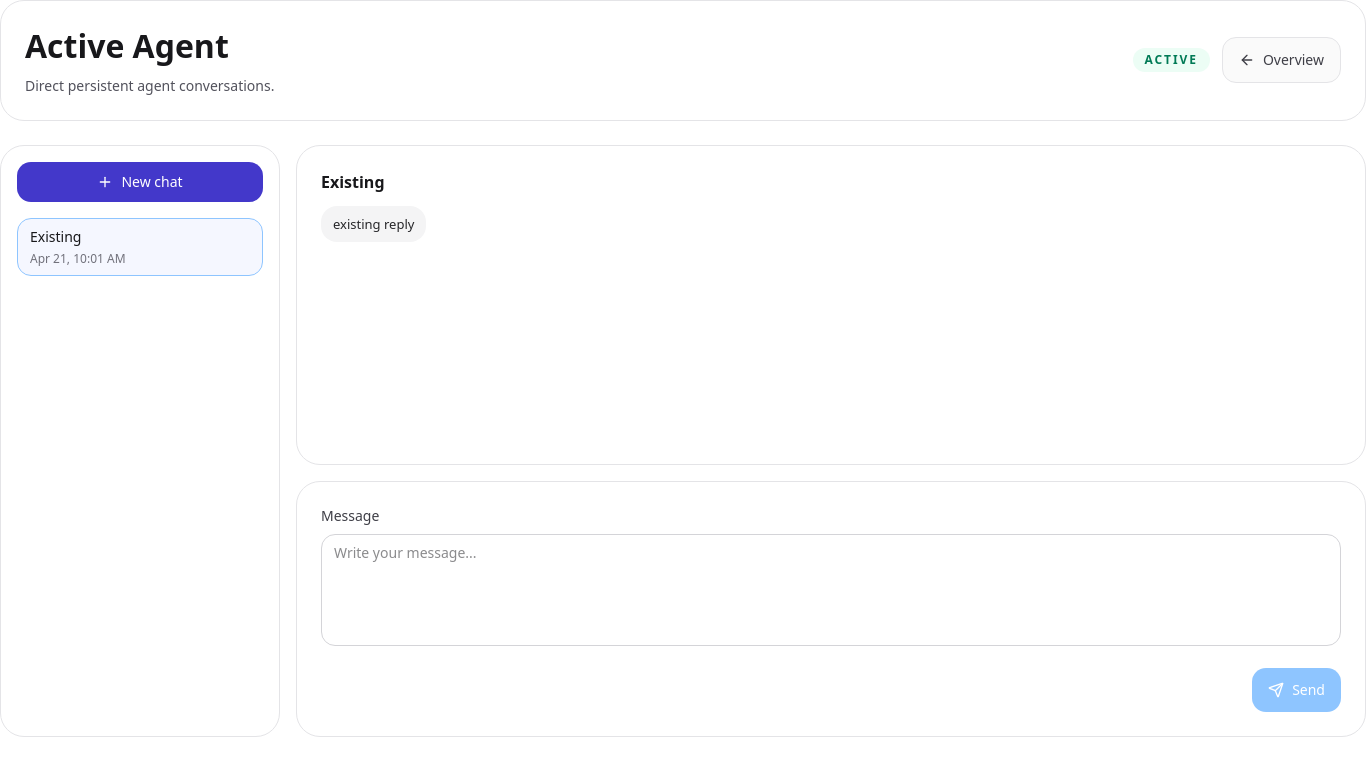
Test case: AgentChatPage › givenActiveConversation_whenNewChatClicked_thenResetsToDraftWithoutCallingChatApi
The width and height of the screenshot is (1366, 768).
Expected: the text "existing reply" is shown, [321,206,426,242]
Click the button "New chat".
click(140, 182)  # box [17,162,263,202]
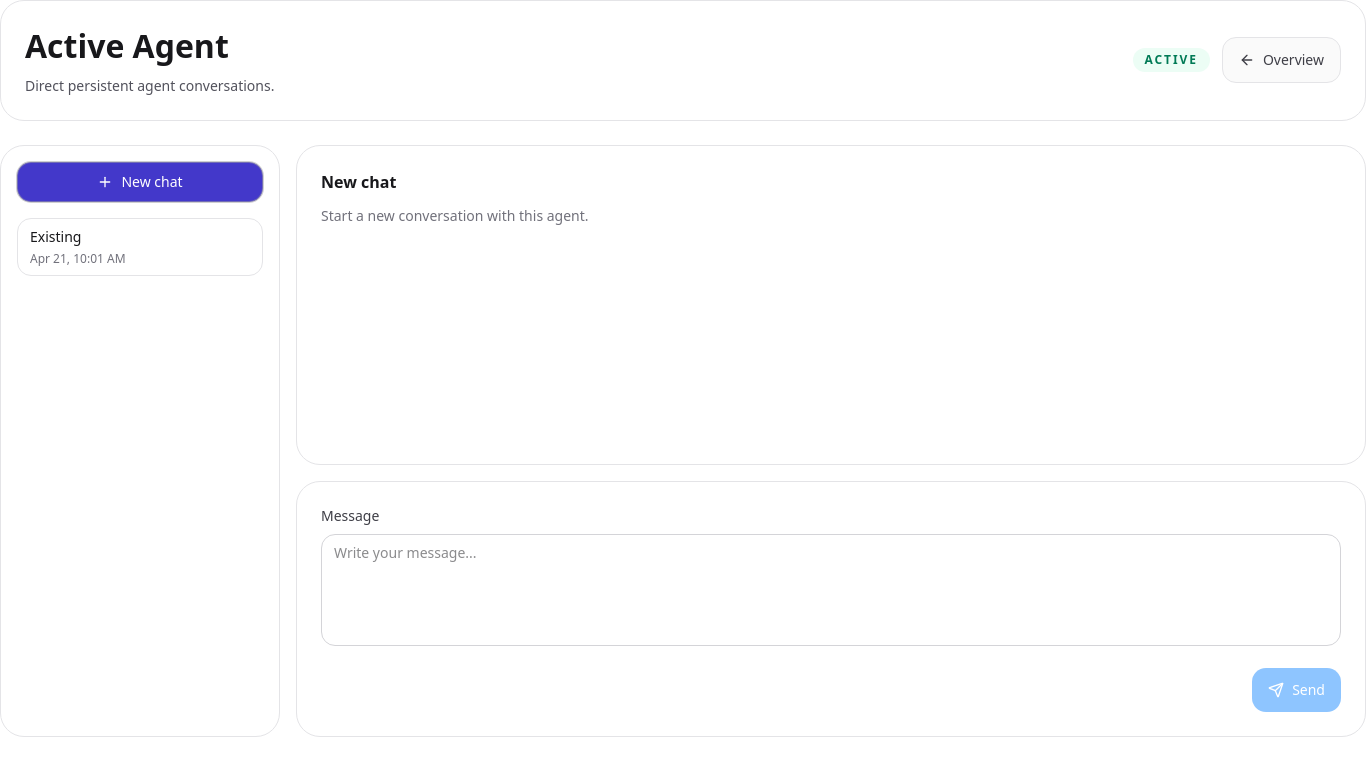
Expected: the heading "New chat" is shown, [321,171,396,193]
Expected: the text "Start a new conversation with this agent." is shown, [321,206,588,225]
